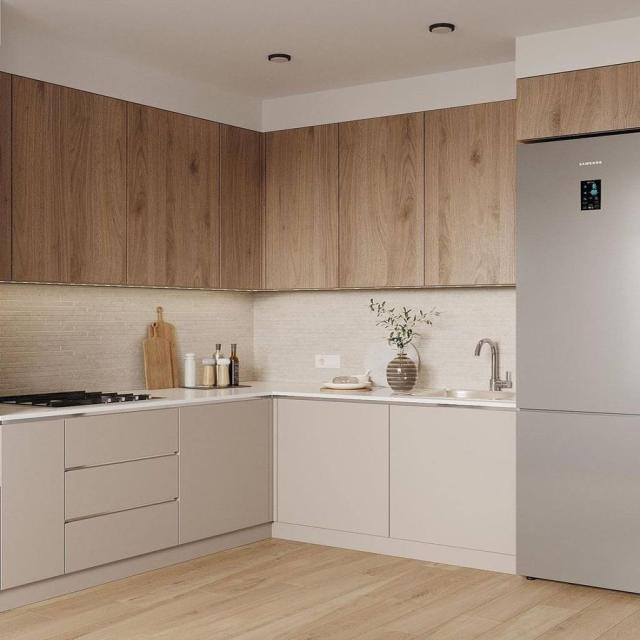obstacle: (0, 393, 278, 612), (513, 126, 639, 594)
